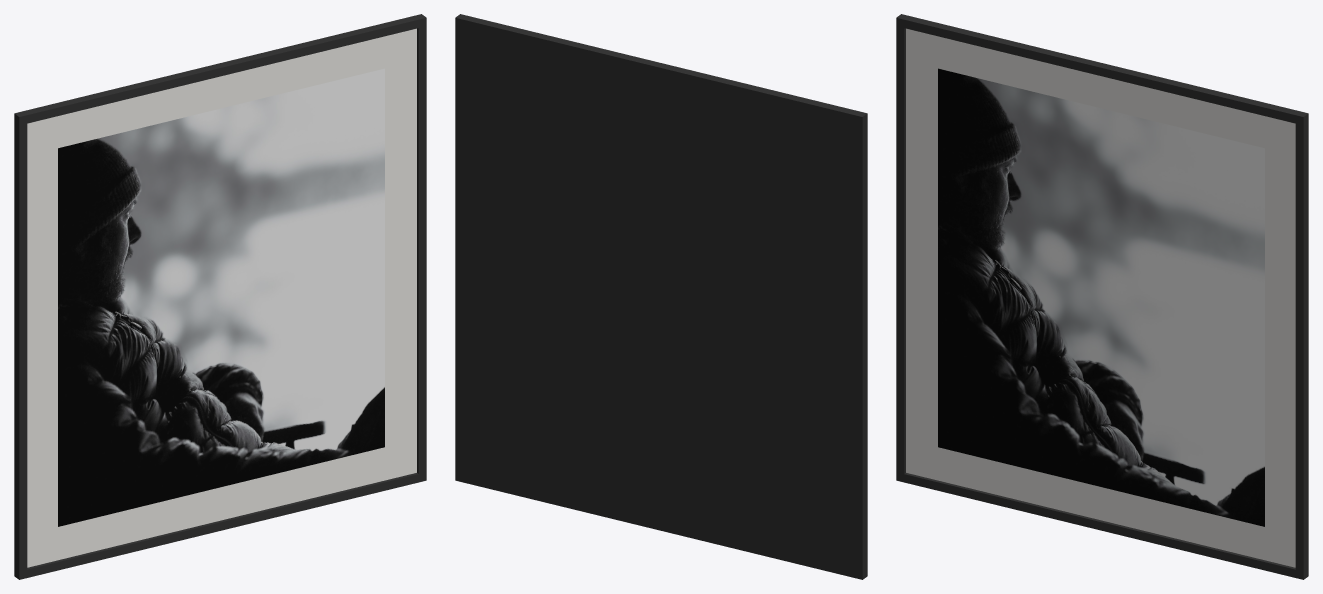
The model's file is vid-fonstret-90.gltf.
The picture shows the model from 3 angles, left to right: view 1: azimuth 30°, elevation 25°; view 2: azimuth 150°, elevation 25°; view 3: azimuth 330°, elevation 25°; orthographic projection.
Visible parts, largest first — view 1: tavla; view 2: tavla; view 3: tavla.
Part boxes in pixels (x1,y1,x2,y2): tavla: [14, 14, 426, 579]; tavla: [455, 14, 867, 579]; tavla: [896, 14, 1308, 579].
Size of the model in its own units: 1.01 by 1.1 by 0.022.
3 materials, 1 textured.
